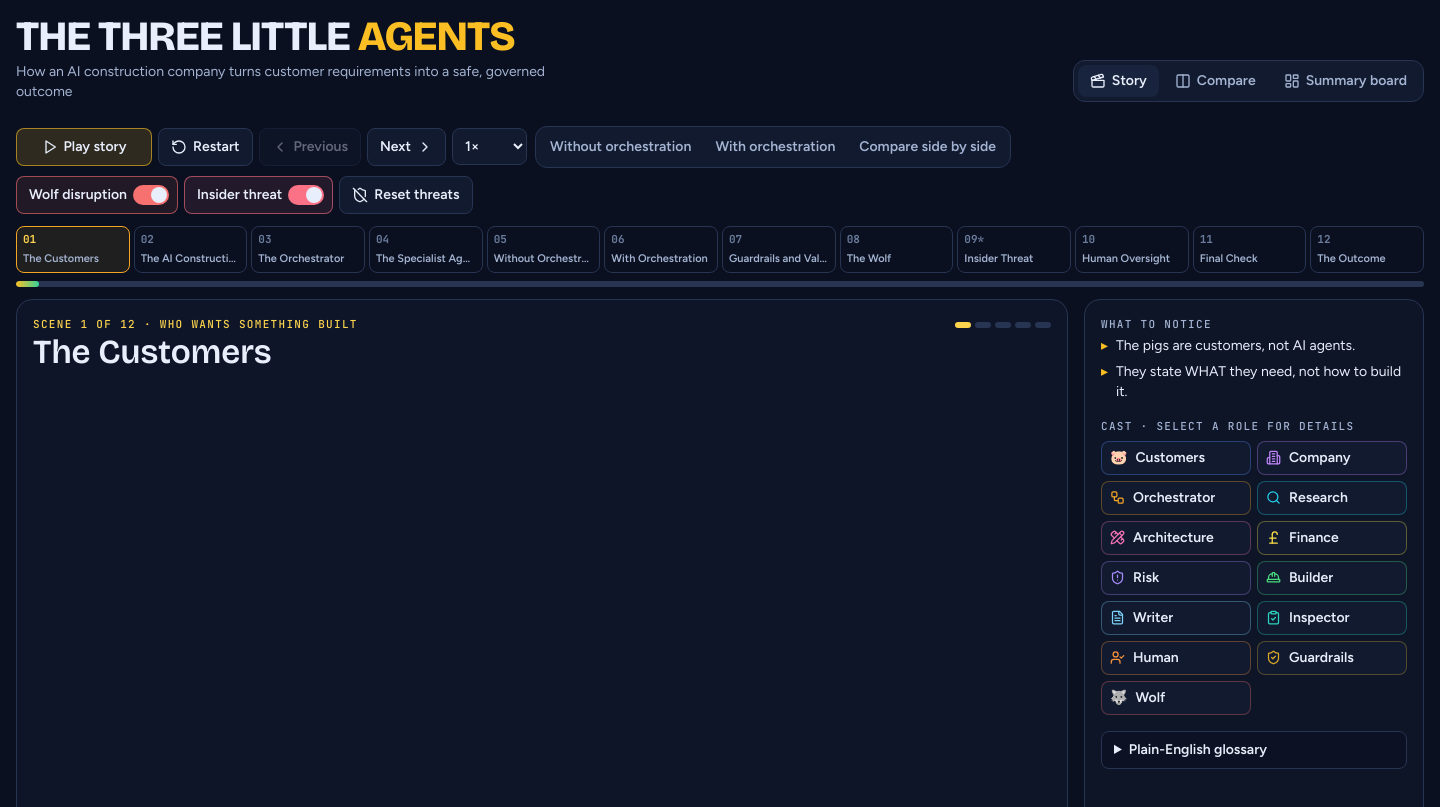
App controls › Restart returns to Scene 1 and starts playing
Click the button with aria-label "Scene 7:": (779, 249) [722,226,836,273]
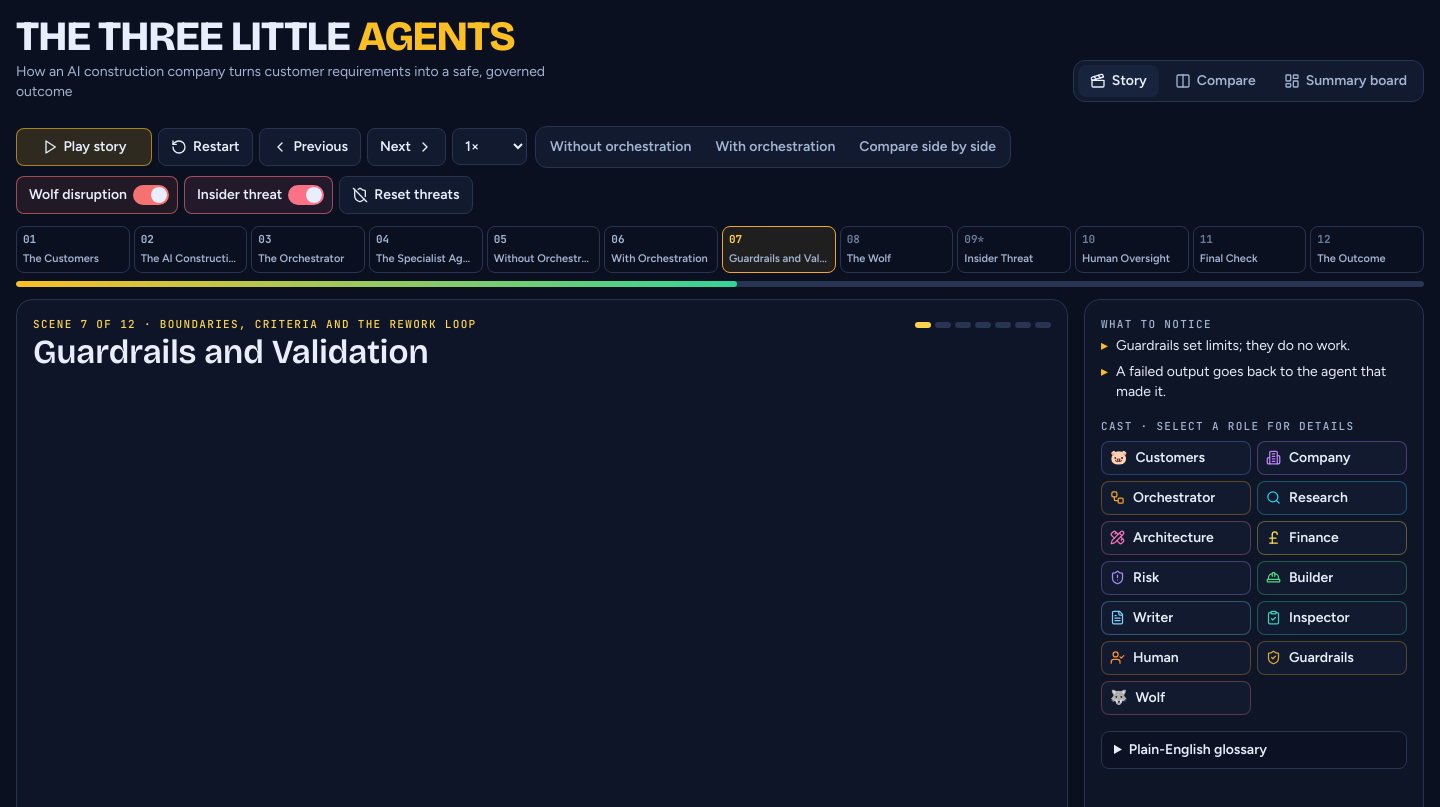
Check: the text "Guardrails and Validation" is shown, box [729,251,829,268]
Click the button with aria-label "Restart from scene 1": (205, 147) [158,128,252,166]
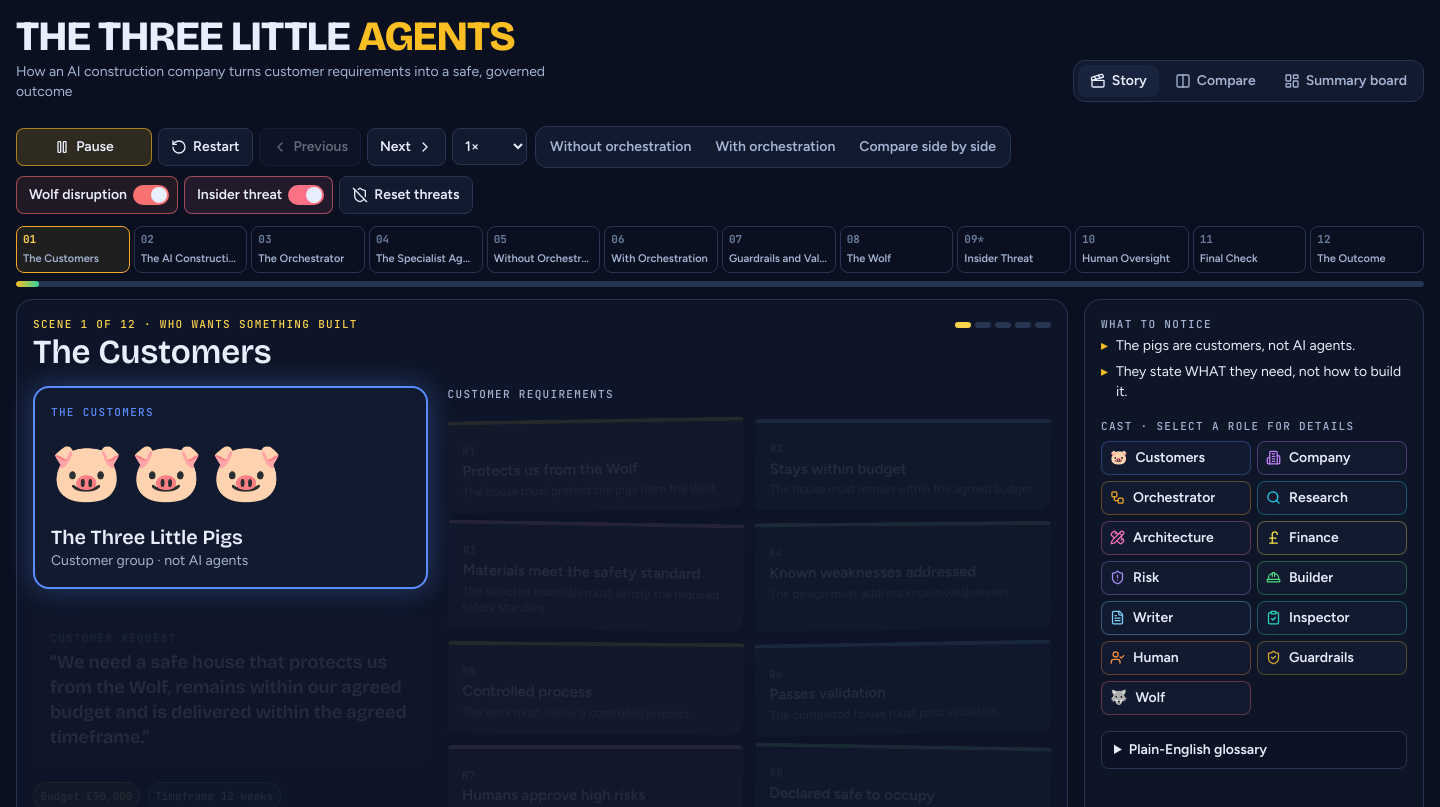
Check: the text "The Customers" is shown, box [23,252,99,265]
Check: the button "Pause" is shown, box [16,128,152,166]
